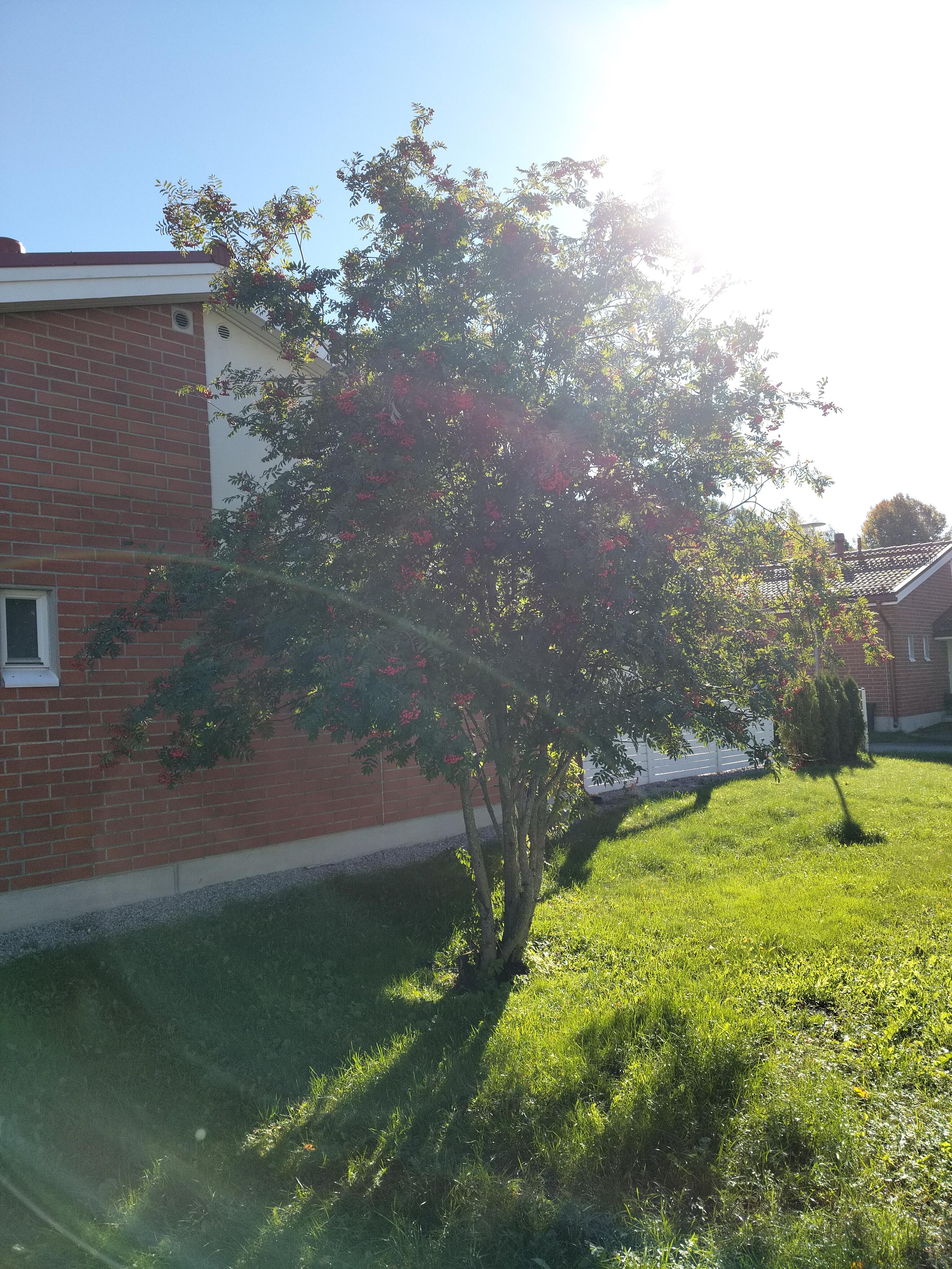Rowan: (118, 112, 829, 984)
